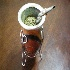guampa: (15, 2, 56, 64)
